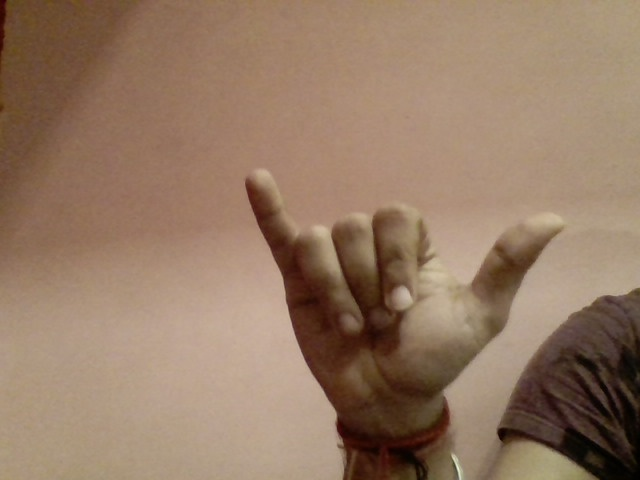y: (224, 152, 575, 416)
